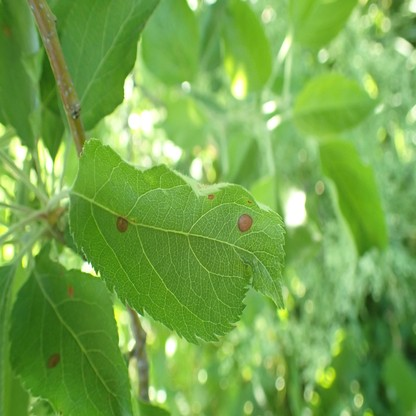frogeye: (238, 213, 253, 231), (46, 352, 61, 370), (116, 215, 128, 232), (67, 285, 73, 297), (208, 193, 214, 199)
